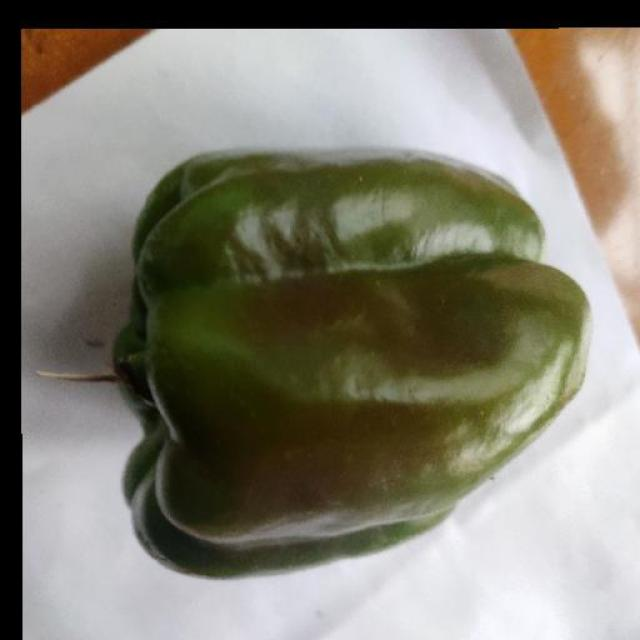Stale_Capsicum: (113, 153, 553, 564)
